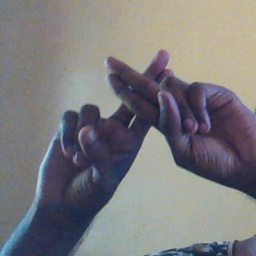F: (90, 48, 207, 171)
